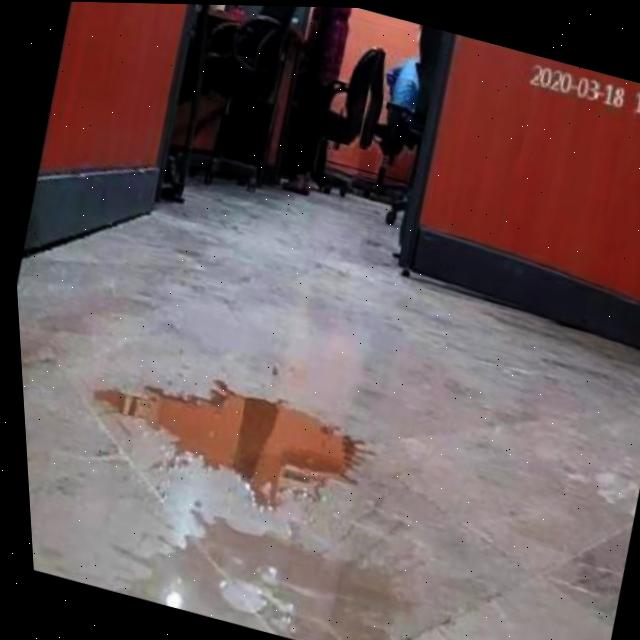spillage: (88, 380, 346, 505)
